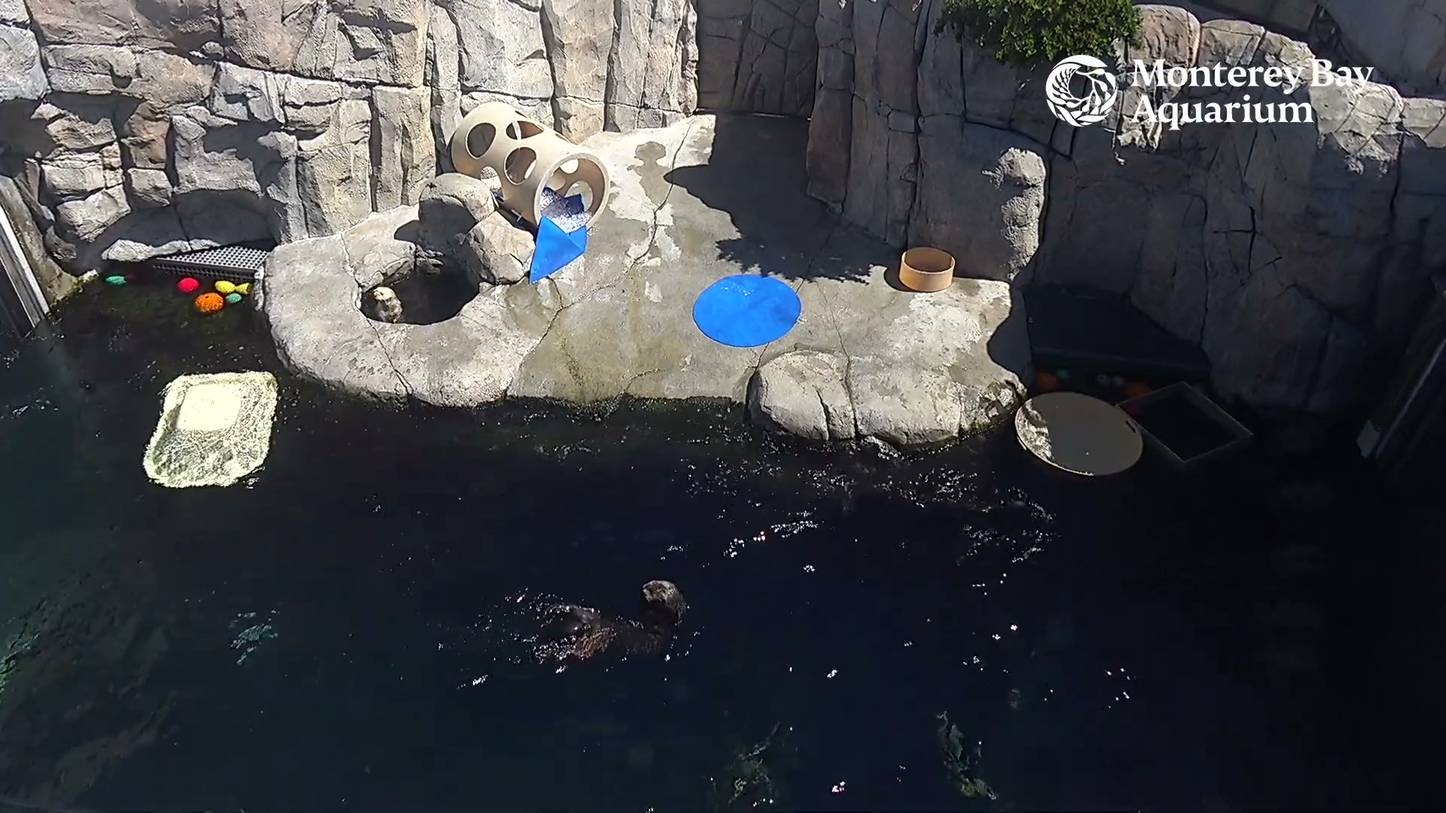Southern Sea Otter: (469, 572, 723, 713), (366, 265, 428, 377)
